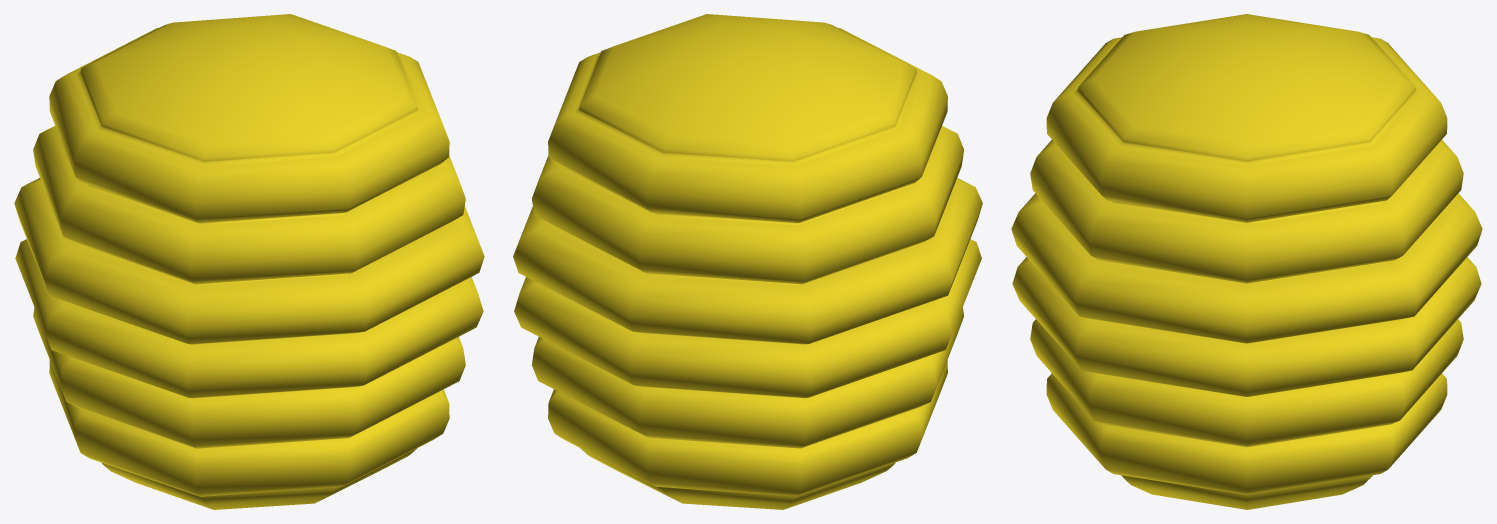
File: BeeHive.fbx
The picture shows the model from 3 angles, left to right: view 1: azimuth 30°, elevation 25°; view 2: azimuth 150°, elevation 25°; view 3: azimuth 270°, elevation 25°; orthographic projection.
Parts seen in each view (by area): view 1: ZumZum.001; view 2: ZumZum.001; view 3: ZumZum.001.
Part boxes in pixels (x1,y1,x2,y2): ZumZum.001: (14,14,484,509); ZumZum.001: (513,14,982,509); ZumZum.001: (1011,14,1482,509).
Bounding box in the file's own units: 0.333 × 0.333 × 0.3352.
